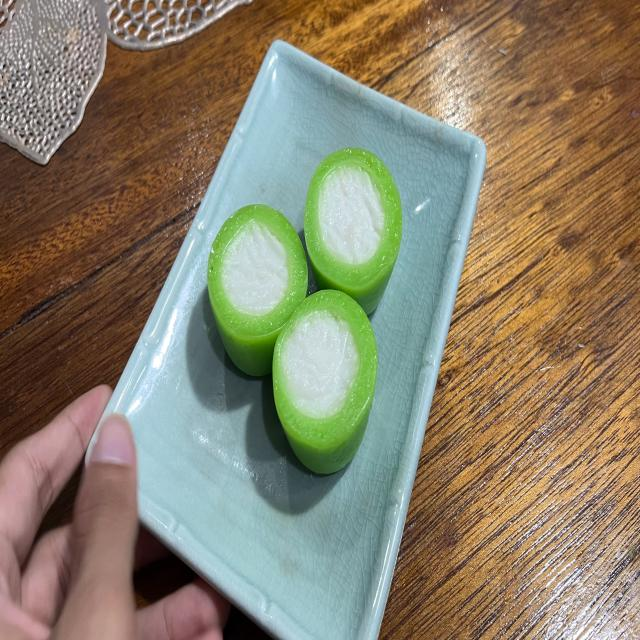nona-manis: (272, 289, 378, 473), (208, 204, 308, 376), (305, 149, 402, 313)
